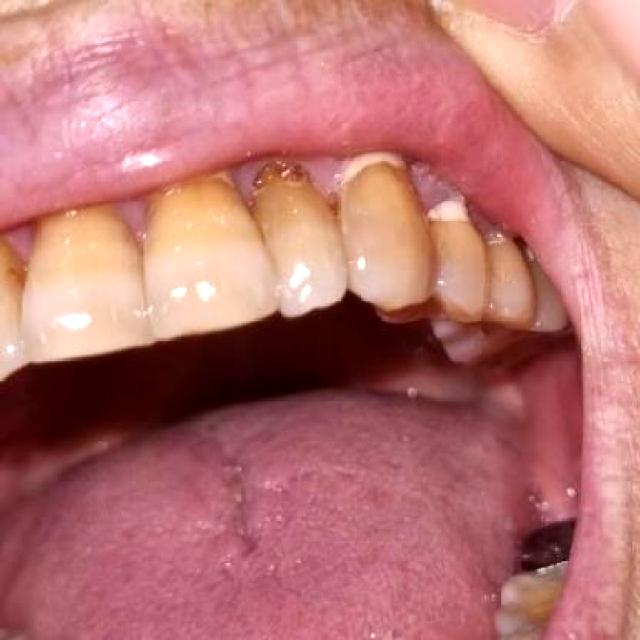Plaque: (264, 162, 314, 199)
